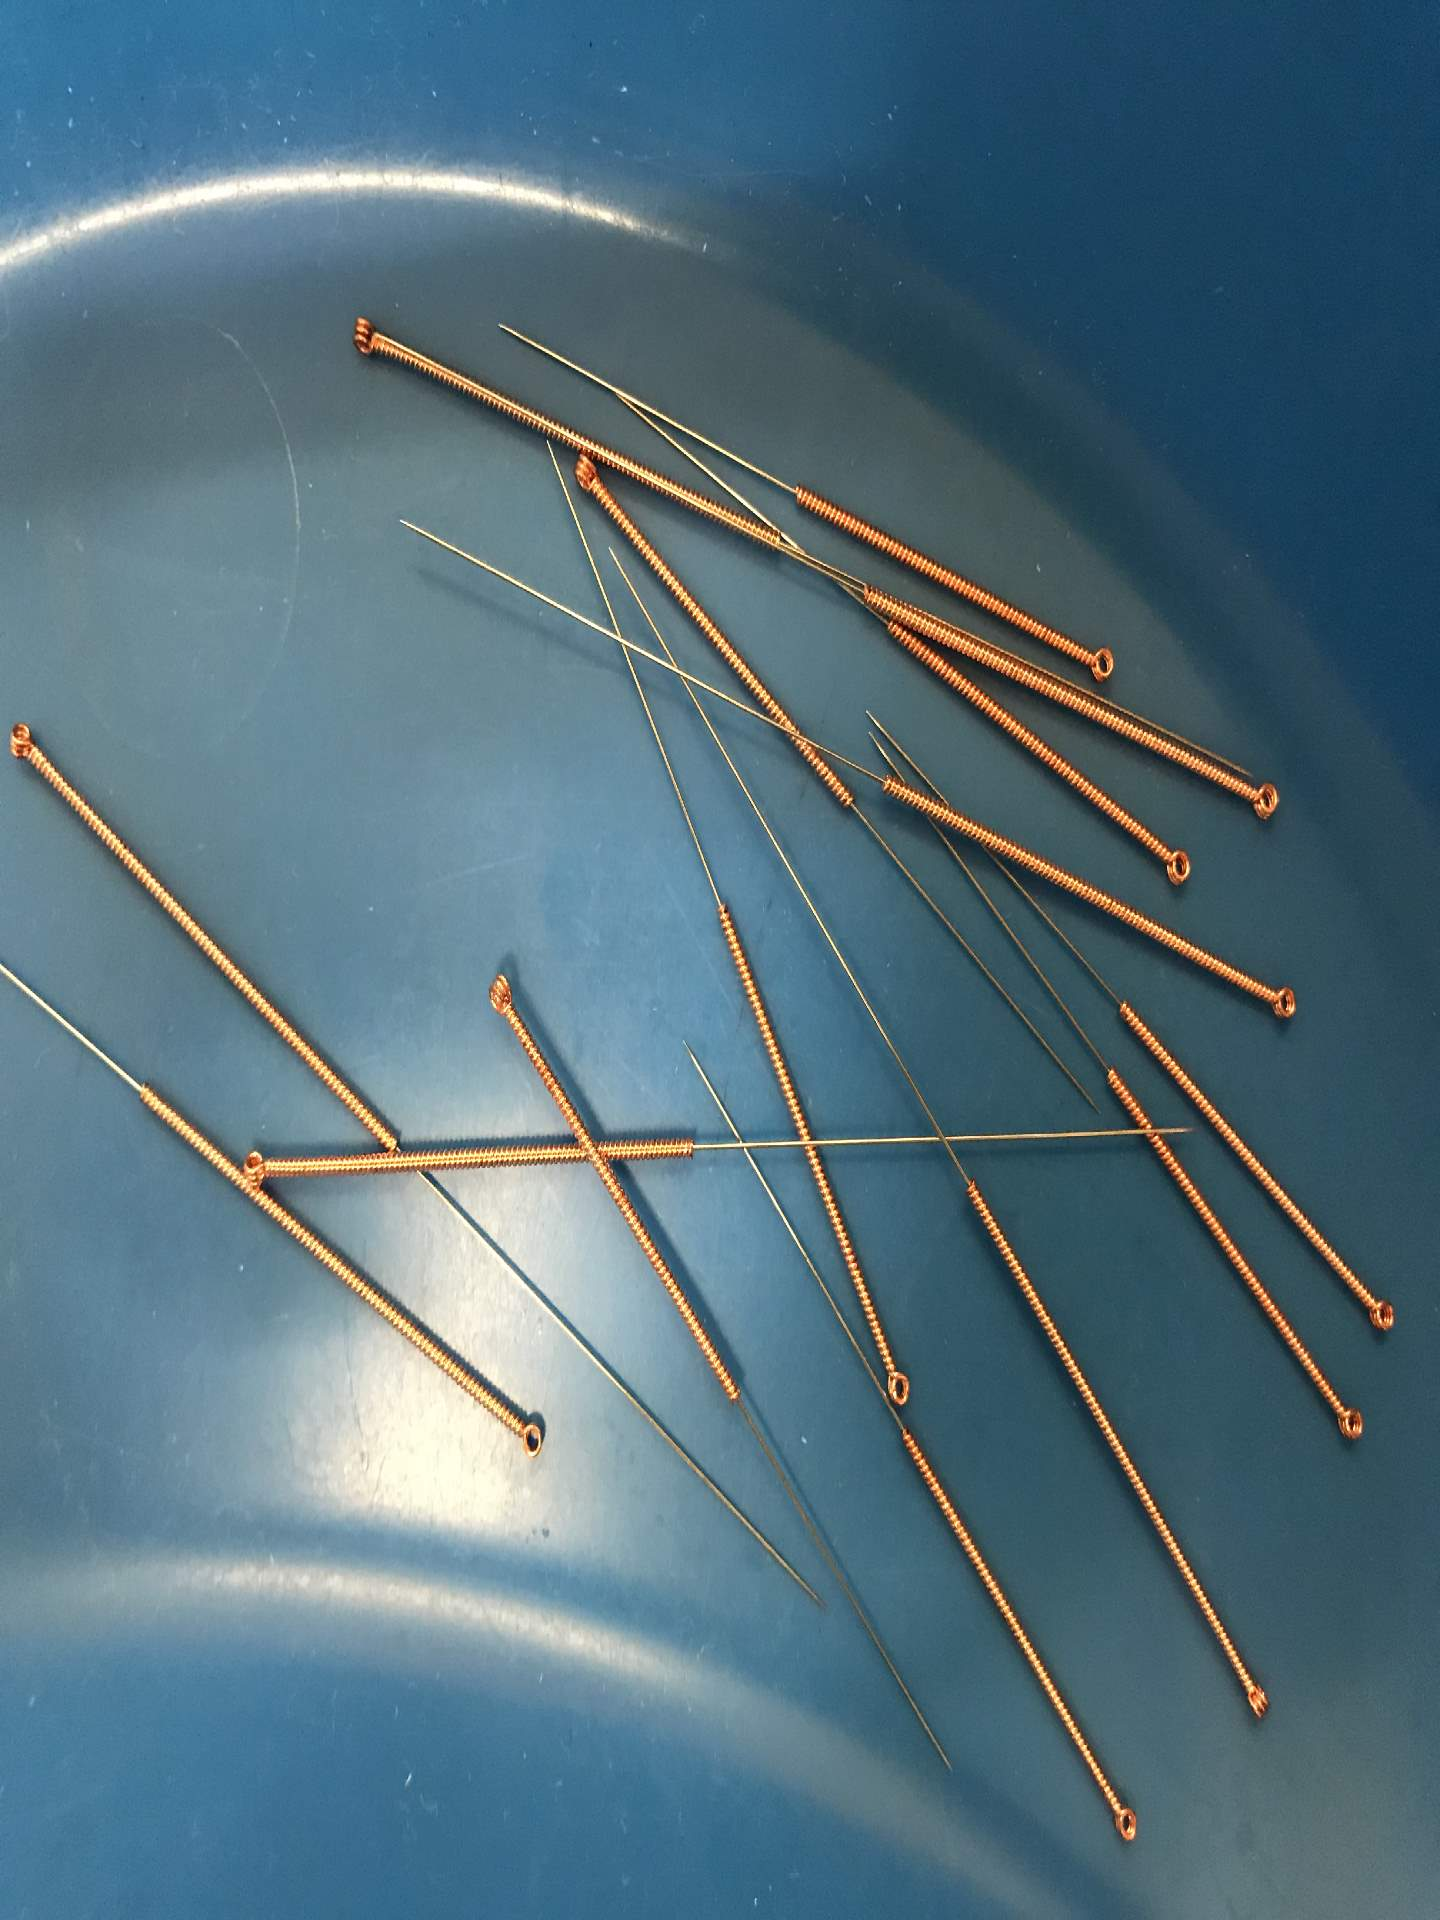needle: (492, 1401, 560, 1469), (333, 305, 399, 372), (1348, 1277, 1410, 1346), (1231, 1660, 1286, 1736), (1317, 1385, 1376, 1454), (1100, 1776, 1151, 1855), (479, 946, 526, 1031), (874, 1346, 923, 1423), (1145, 831, 1203, 895), (1237, 770, 1292, 830), (1069, 635, 1128, 689), (1257, 974, 1308, 1033), (2, 715, 47, 771), (241, 1140, 290, 1188), (566, 447, 607, 503)
